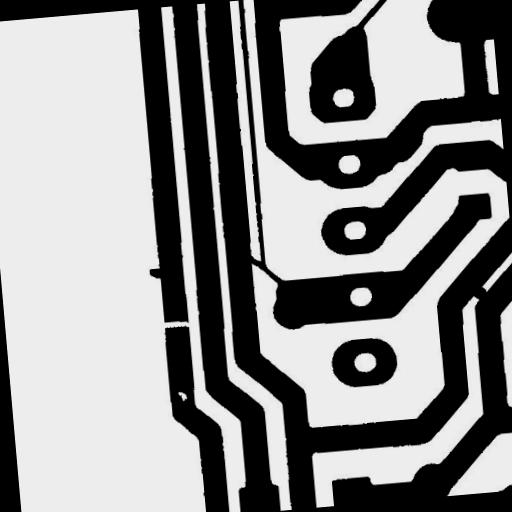open: (150, 312, 198, 337)
pin-hole: (170, 382, 196, 410)
short: (238, 245, 273, 279), (464, 279, 494, 308)
spur: (140, 259, 174, 288)
